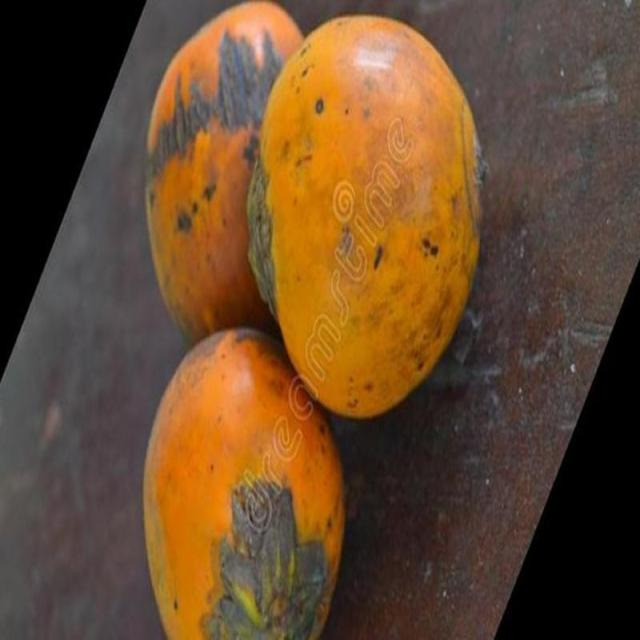good: (249, 14, 481, 422), (142, 328, 345, 639), (145, 2, 305, 349)
